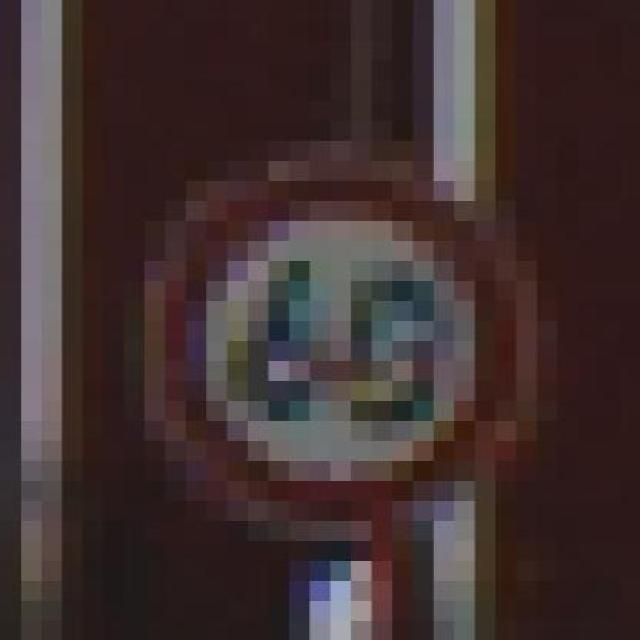forb_speed_over_60: (154, 169, 511, 523)
